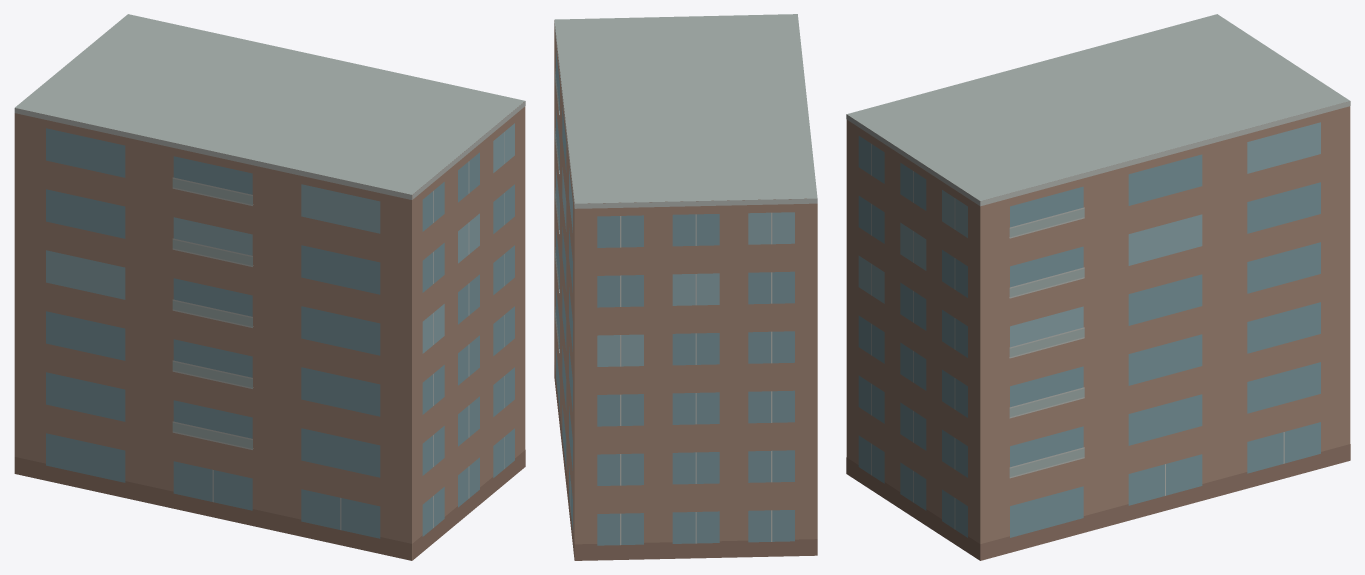
Rendered from survey-upis-33044364.glb.
3 views of the same model, side by side, from view 1: azimuth 30°, elevation 25°; view 2: azimuth 150°, elevation 25°; view 3: azimuth 270°, elevation 25° (orthographic). The views are drawn at different scales.
Visible parts, largest first — view 1: survey-upis-33044364.tmp; view 2: survey-upis-33044364.tmp; view 3: survey-upis-33044364.tmp.
Part boxes in pixels (x1,y1,x2,y2): survey-upis-33044364.tmp: (14, 14, 525, 560); survey-upis-33044364.tmp: (554, 14, 817, 560); survey-upis-33044364.tmp: (846, 14, 1350, 560).
Size of the model in its own units: 18.98 by 17 by 21.59.
